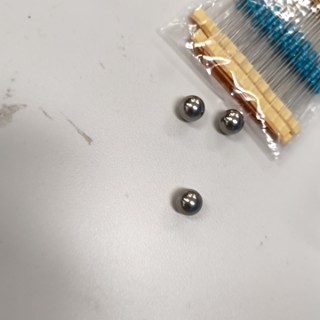ironball: (164, 180, 229, 226), (163, 82, 206, 133), (213, 92, 245, 144)
